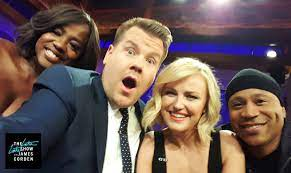face: (115, 39, 158, 97), (228, 93, 277, 137), (37, 24, 88, 64), (159, 85, 205, 123)
